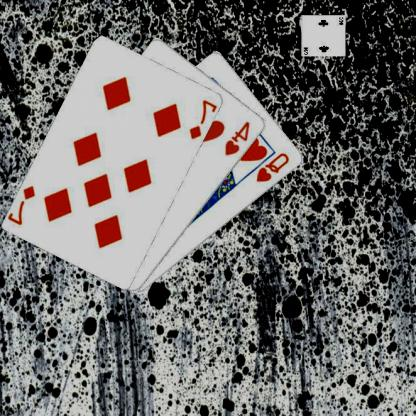4H: (224, 118, 254, 157)
7D: (188, 97, 218, 141), (9, 183, 39, 226)
QH: (256, 150, 293, 184)
